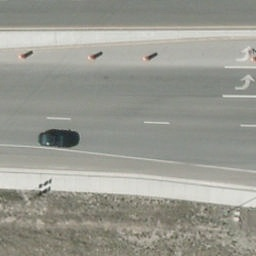car: (36, 131, 81, 147)
